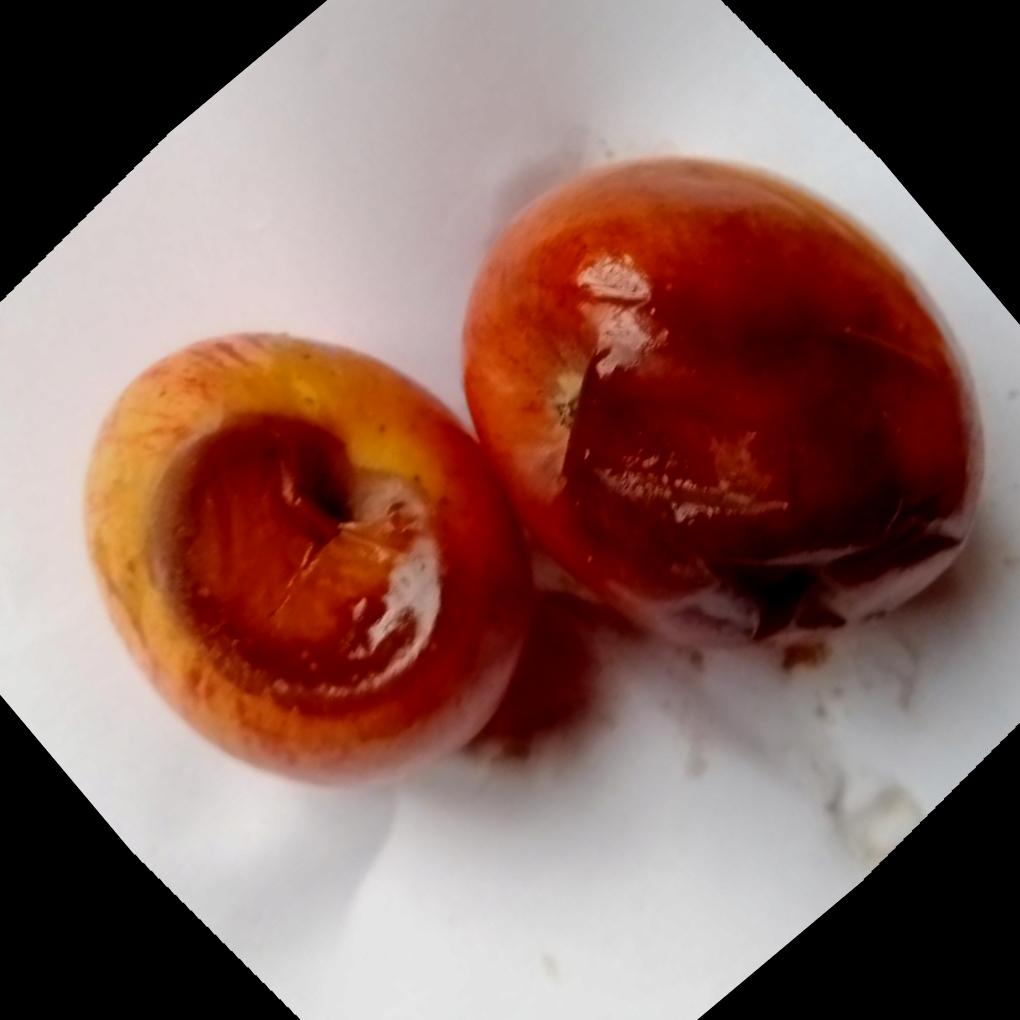FreshOrange: (79, 153, 980, 786)
